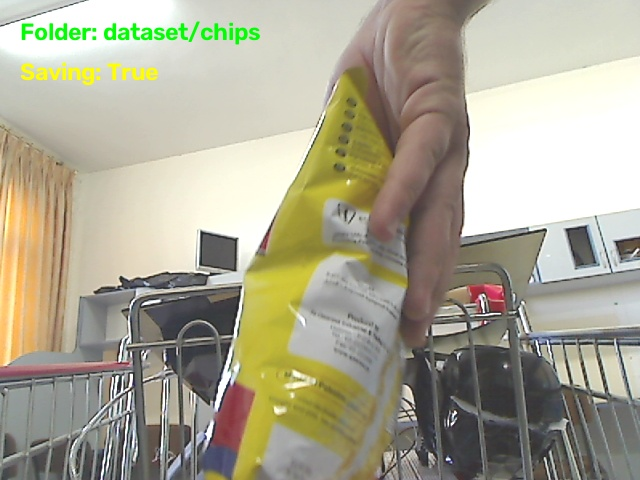chips: (204, 70, 406, 479)
